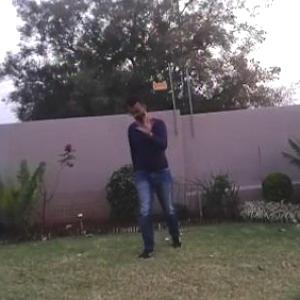follow_hand: (135, 111, 156, 135)
